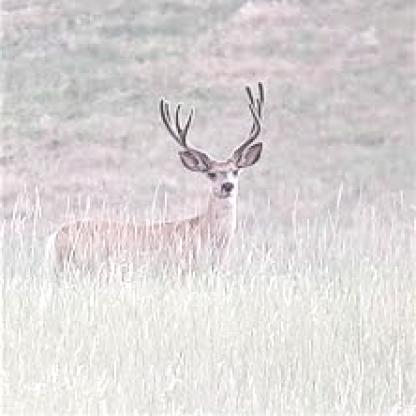Deer: (43, 80, 268, 353)
